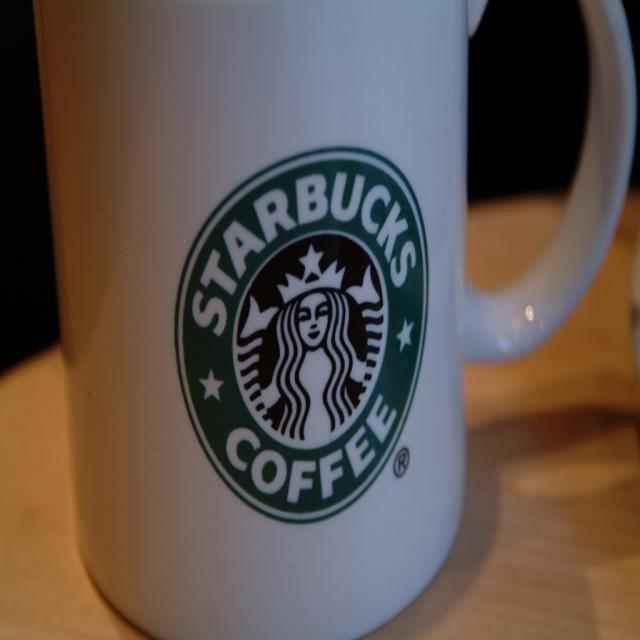starbucks: (175, 147, 431, 527)
